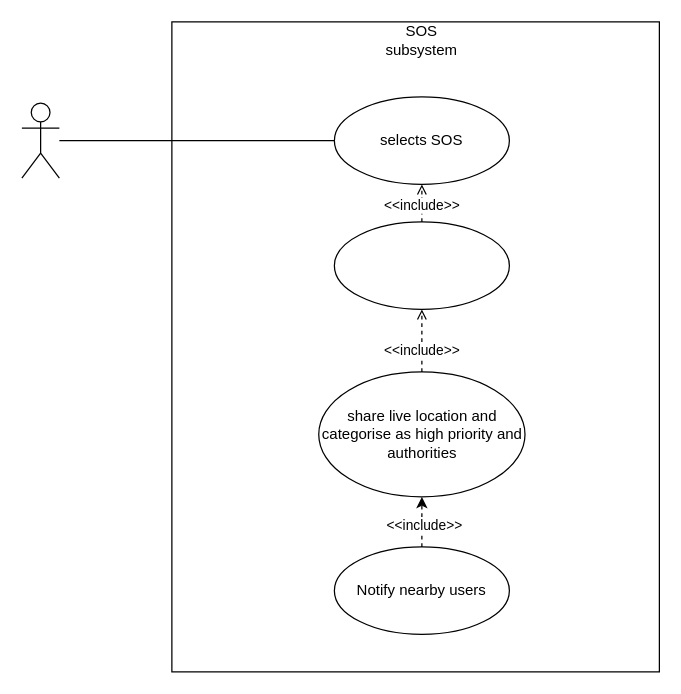
Some shapes in this 681 by 694 pixel diagram are drawn without their labels. The shapes that lost their labels are listed below. From the top down, each one's centre as x and y in pixels, then its label:
the point at 40,140: User
the point at 421,265: SOS report is set out
